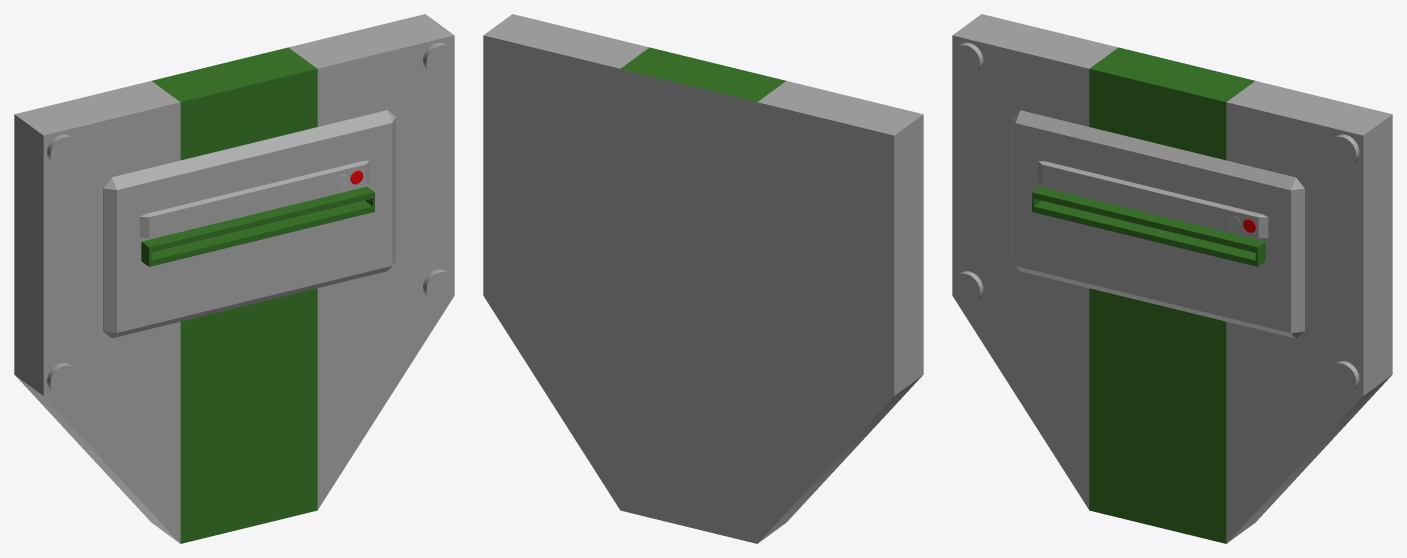
File: KeyCardReaderV1.fbx
3 views of the same model, side by side, from view 1: azimuth 30°, elevation 25°; view 2: azimuth 150°, elevation 25°; view 3: azimuth 330°, elevation 25° (orthographic).
Parts seen in each view (by area): view 1: KeycardReader; view 2: KeycardReader; view 3: KeycardReader.
Boxes of the visible parts, box(x1,y1,x2,y2) form: KeycardReader: box(14, 14, 454, 543); KeycardReader: box(483, 14, 923, 543); KeycardReader: box(952, 14, 1392, 543).
Bounding box in the file's own units: 18.27 × 18.77 × 3.25.
